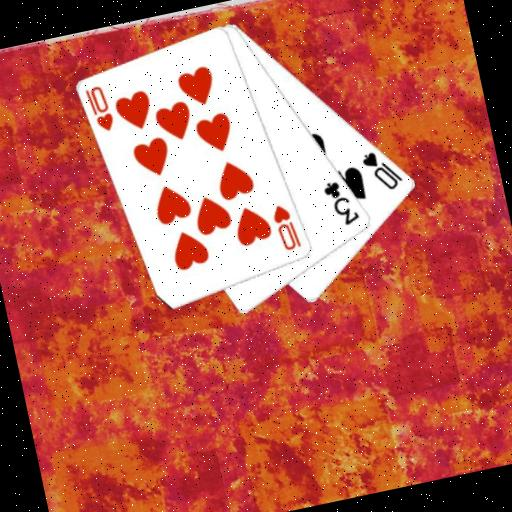10H: (267, 199, 304, 254), (81, 81, 118, 136)
10S: (357, 143, 407, 197)
3C: (319, 174, 363, 230)
